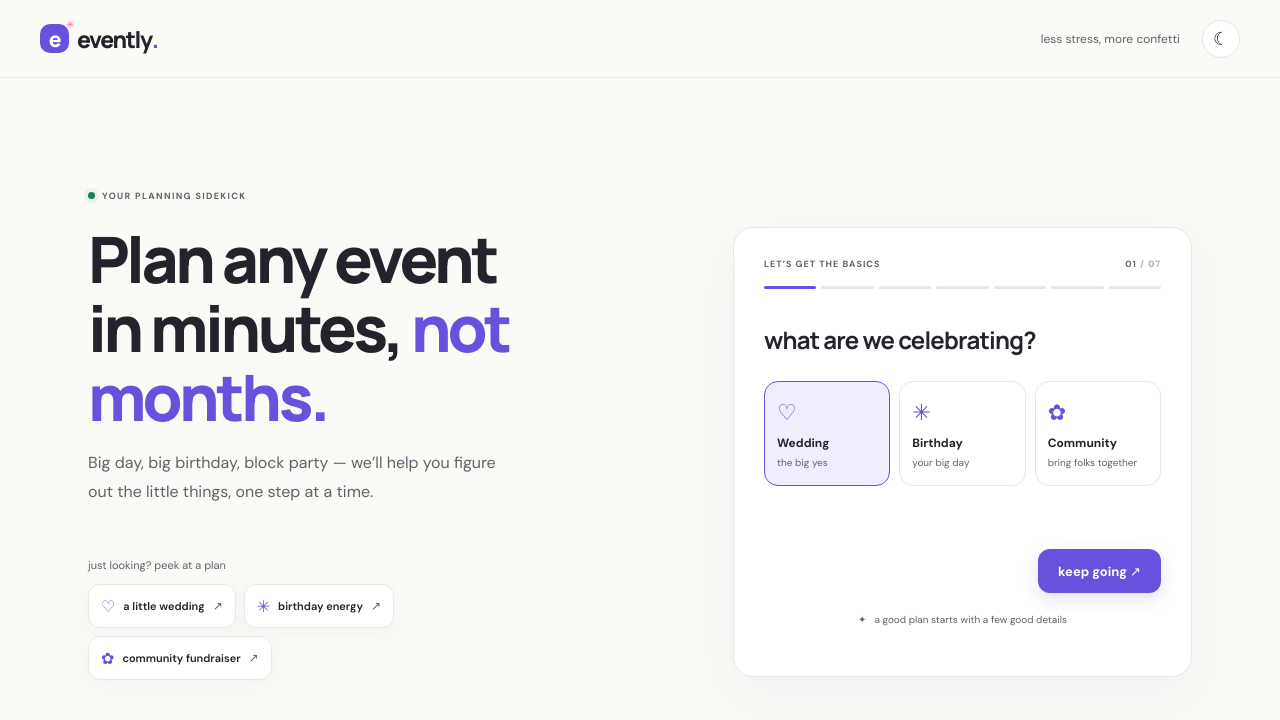
Evently interface › renders chat content as plain text
Click the button "♡ a little wedding ↗": click(162, 606) x1=88 y1=584 x2=236 y2=628
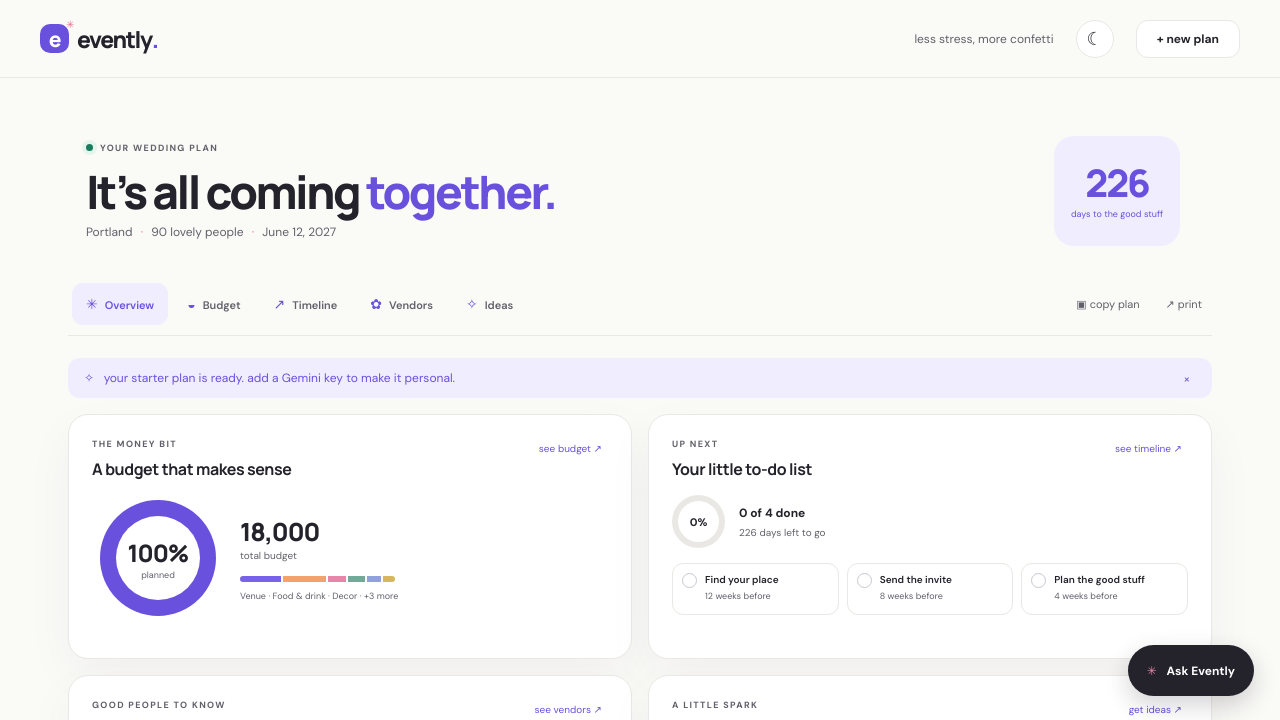
Expected: the element named "plan sections" is shown, x1=72 y1=283 x2=527 y2=325
Click the button "✳ Ask Evently": click(1191, 670) x1=1128 y1=645 x2=1254 y2=696
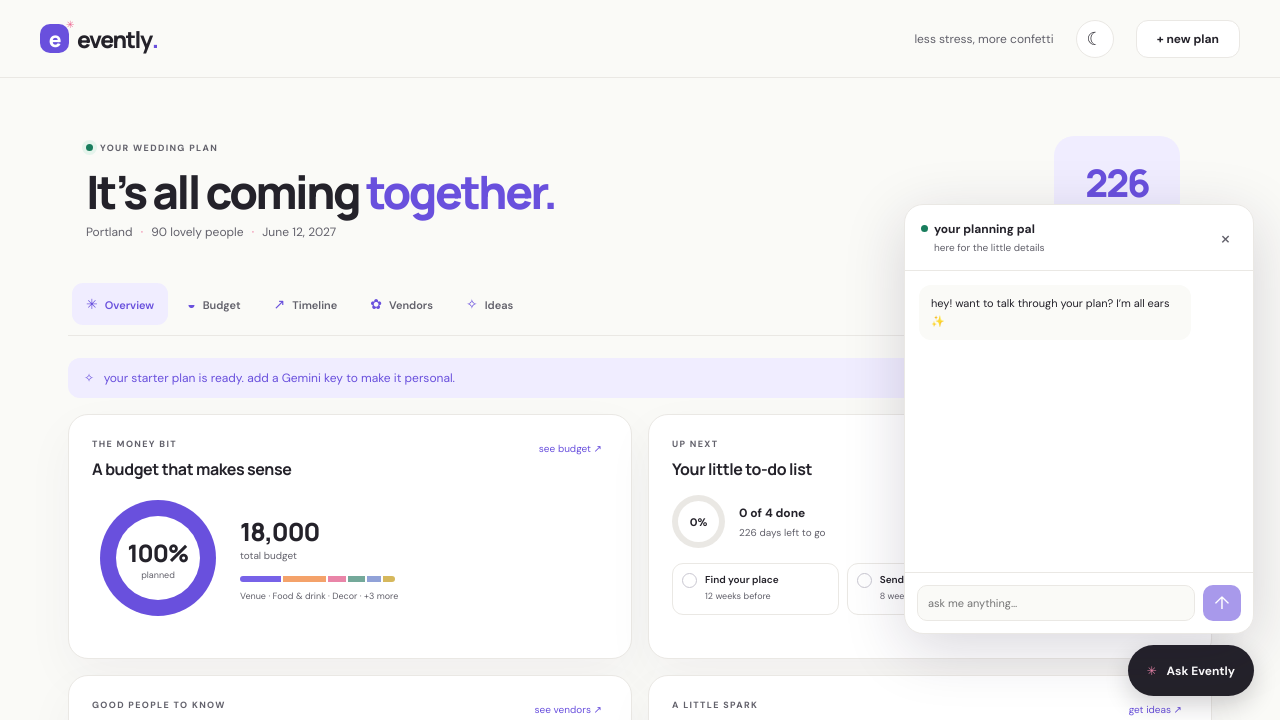
In the field named "ask about your event plan": (1056, 603) x1=917 y1=585 x2=1195 y2=621, type "<script>alert(1)</script>"
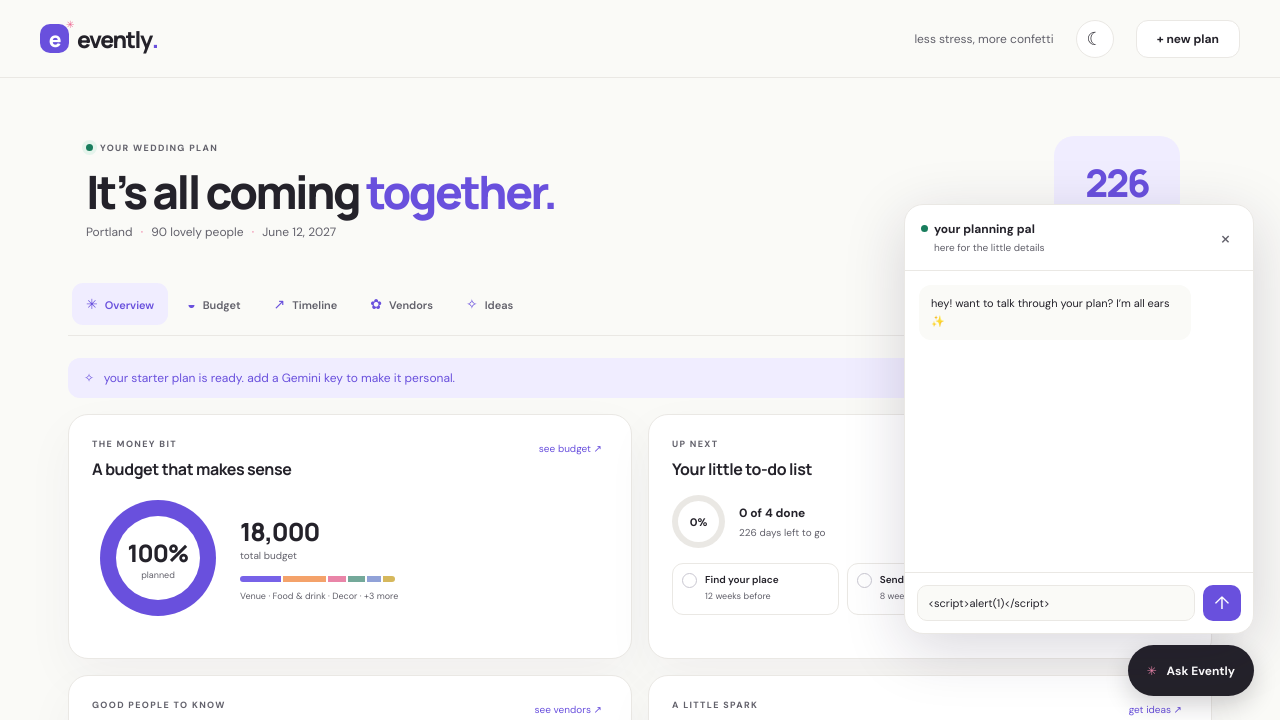
Click the button named "send message": click(1222, 603) x1=1203 y1=585 x2=1241 y2=621
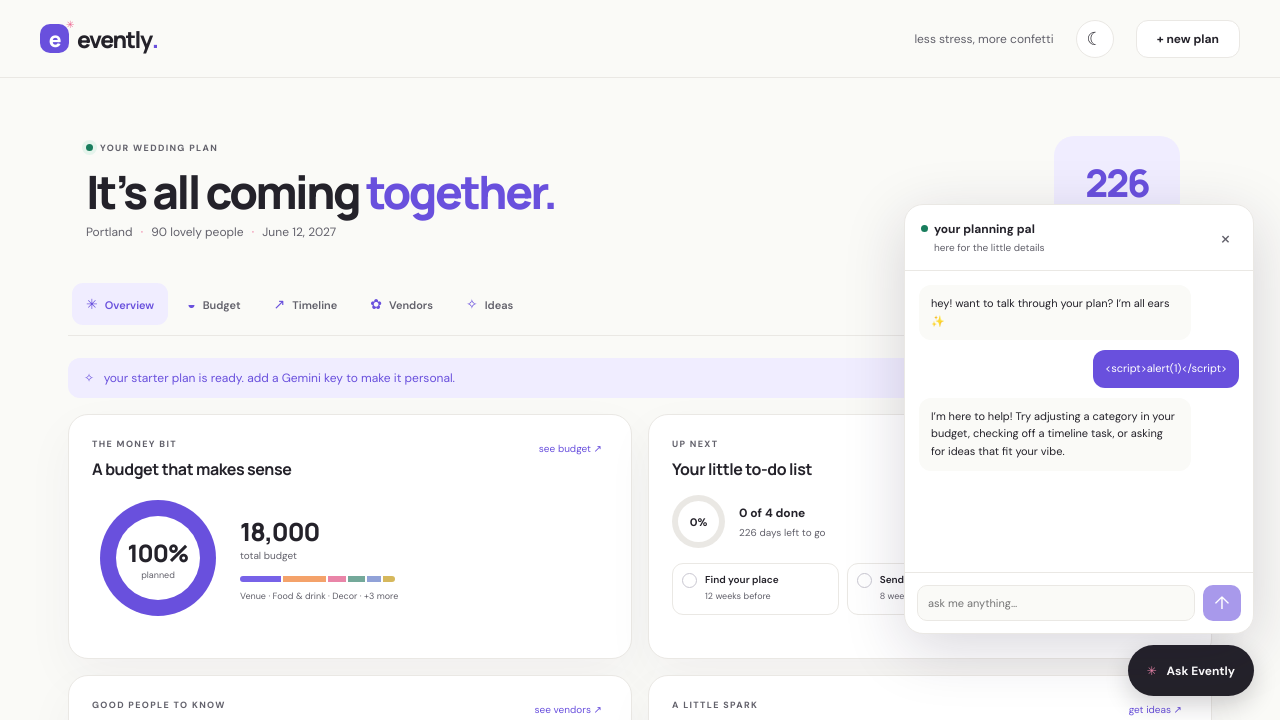
Expected: the text "<script>alert(1)</script>" is shown, x1=1093 y1=350 x2=1239 y2=388
